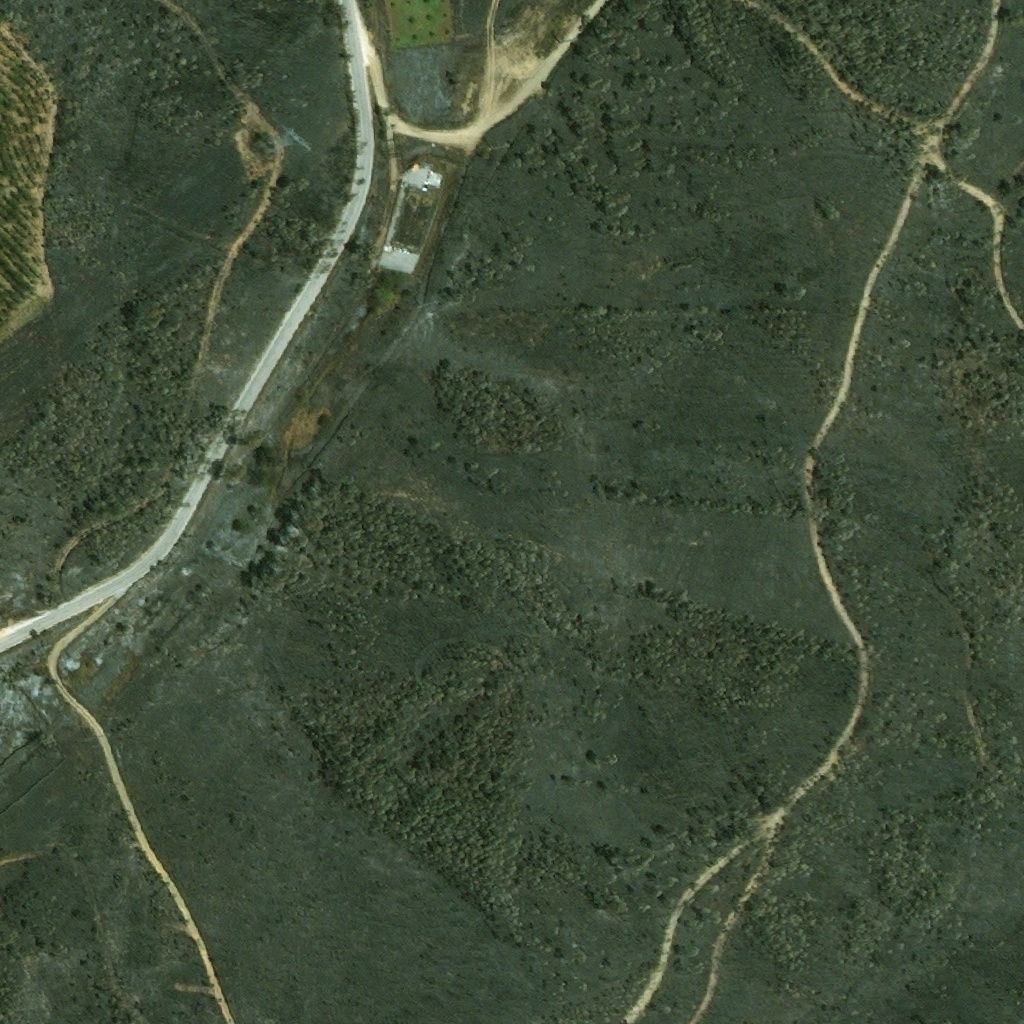3 destroyed: (375, 166, 441, 275)
